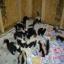skunk: (15, 24, 37, 46), (38, 39, 49, 56), (17, 50, 27, 63)
